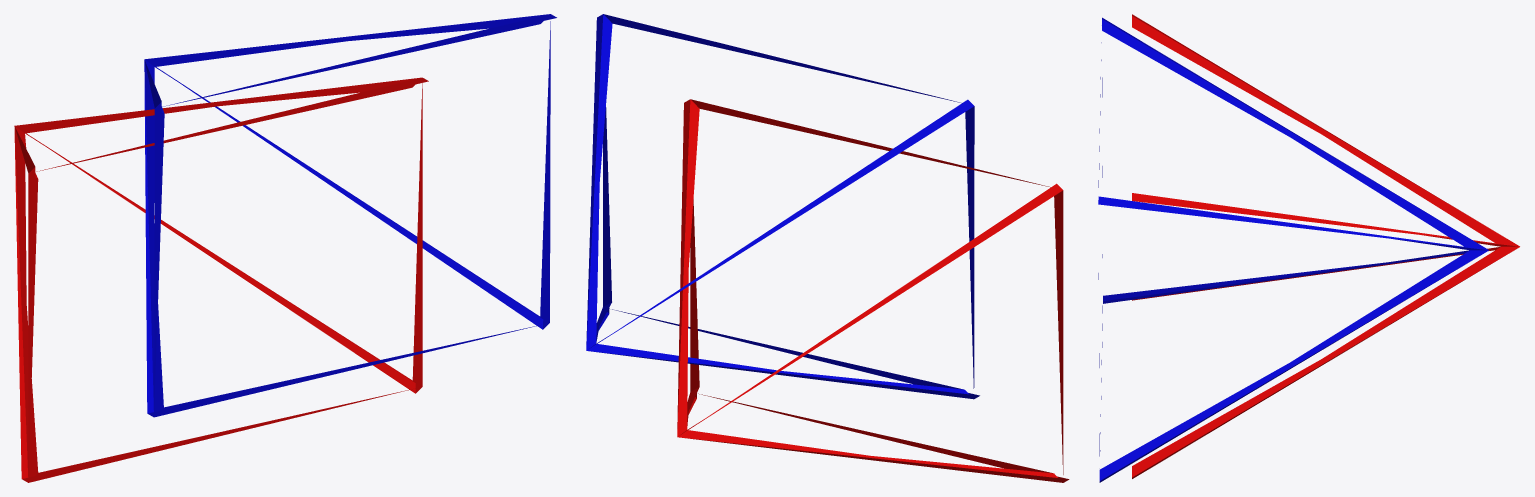
File: death_star.glb
3 renders of one model, left to right at view 1: azimuth 30°, elevation 25°; view 2: azimuth 150°, elevation 25°; view 3: azimuth 270°, elevation 25°, orthographic. The views are drawn at different scales.
Parts seen in each view (by area): view 1: world; view 2: world; view 3: world.
Part boxes in pixels (<box>): world: <box>14,14,556,482</box>; world: <box>586,14,1069,482</box>; world: <box>1098,14,1519,482</box>.
Size of the model in its own units: 0.0876 by 0.0598 by 0.0671.
